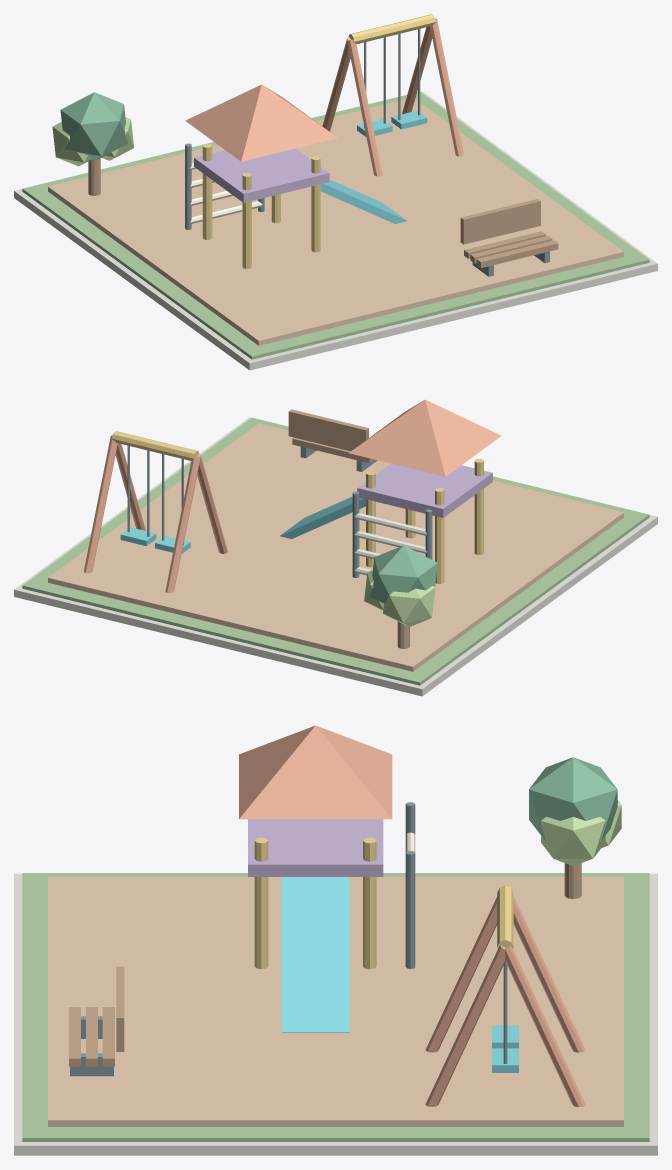
File: remaster_playground.glb
The picture shows the model from 3 angles, top to bottom: view 1: azimuth 30°, elevation 25°; view 2: azimuth 150°, elevation 25°; view 3: azimuth 270°, elevation 25°; orthographic projection. The views are drawn at different scales.
Parts seen in each view (by area): view 1: rubber play surface, lot surface.004, lot foundation.004, play tower roof, climbing platform, tree canopy.030, bench back.005, swing frame, swing frame.002, slide, swing crossbar, tower support.001 (+9 smaller); view 2: rubber play surface, lot surface.004, lot foundation.004, play tower roof, climbing platform, tree canopy.030, bench back.005, tree canopy.032, swing frame.001, swing frame.003, slide, swing crossbar (+10 smaller); view 3: rubber play surface, lot surface.004, lot foundation.004, play tower roof, slide, climbing platform, tree canopy.030, tree canopy.031, swing frame.002, swing frame.003, swing frame, swing frame.001 (+9 smaller).
Boxes of the visible parts, x1=… form: rubber play surface: x1=48, y1=99, x2=623, y2=345; lot surface.004: x1=22, y1=92, x2=649, y2=359; lot foundation.004: x1=14, y1=91, x2=657, y2=370; play tower roof: x1=185, y1=84, x2=337, y2=161; climbing platform: x1=194, y1=148, x2=329, y2=202; tree canopy.030: x1=60, y1=92, x2=128, y2=160; bench back.005: x1=460, y1=199, x2=540, y2=244; swing frame: x1=347, y1=39, x2=382, y2=176; swing frame.002: x1=430, y1=19, x2=463, y2=156; slide: x1=320, y1=179, x2=406, y2=223; swing crossbar: x1=348, y1=14, x2=435, y2=43; tower support.001: x1=202, y1=143, x2=212, y2=239; rubber play surface: x1=48, y1=423, x2=623, y2=671; lot surface.004: x1=22, y1=417, x2=649, y2=685; lot foundation.004: x1=14, y1=417, x2=657, y2=696; play tower roof: x1=348, y1=399, x2=501, y2=476; climbing platform: x1=357, y1=463, x2=492, y2=517; tree canopy.030: x1=370, y1=545, x2=437, y2=603; bench back.005: x1=288, y1=409, x2=368, y2=451; tree canopy.032: x1=383, y1=586, x2=435, y2=626; swing frame.001: x1=165, y1=456, x2=200, y2=593; swing frame.003: x1=83, y1=435, x2=117, y2=573; slide: x1=280, y1=496, x2=365, y2=538; swing crossbar: x1=112, y1=431, x2=199, y2=460; rubber play surface: x1=48, y1=876, x2=623, y2=1126; lot surface.004: x1=22, y1=873, x2=649, y2=1141; lot foundation.004: x1=14, y1=873, x2=657, y2=1155; play tower roof: x1=239, y1=725, x2=392, y2=819; slide: x1=281, y1=877, x2=349, y2=1032; climbing platform: x1=248, y1=819, x2=383, y2=876; tree canopy.030: x1=529, y1=757, x2=617, y2=841; tree canopy.031: x1=541, y1=817, x2=605, y2=865; swing frame.002: x1=425, y1=945, x2=505, y2=1106; swing frame.003: x1=505, y1=945, x2=585, y2=1106; swing frame: x1=425, y1=896, x2=497, y2=1052; swing frame.001: x1=513, y1=897, x2=585, y2=1052.
Size of the model in its own units: 9.5 by 3.9 by 9.5.
